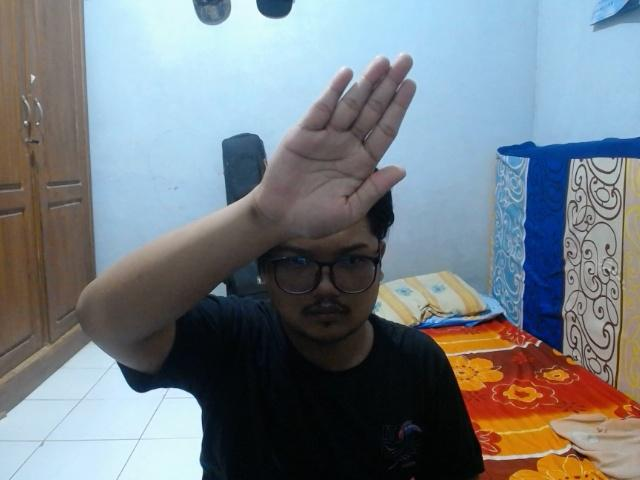Release: (254, 49, 417, 243)
